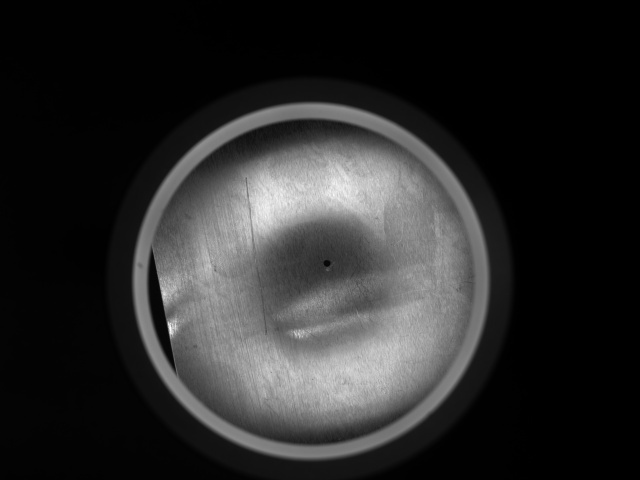ca_shang: (239, 175, 271, 338)
zhen_kong: (318, 256, 333, 272)
